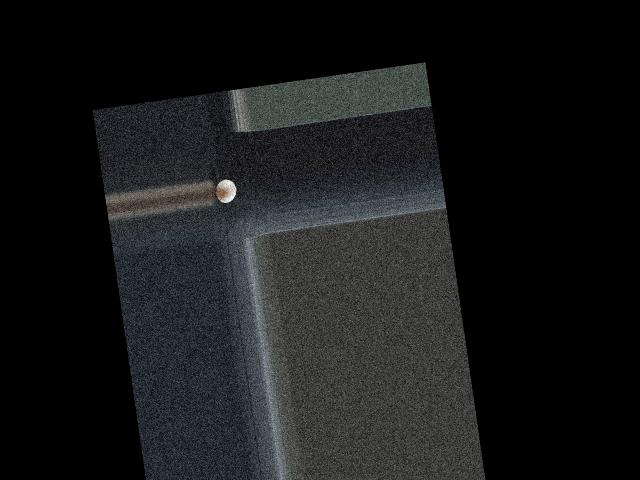egg: (214, 178, 238, 204)
